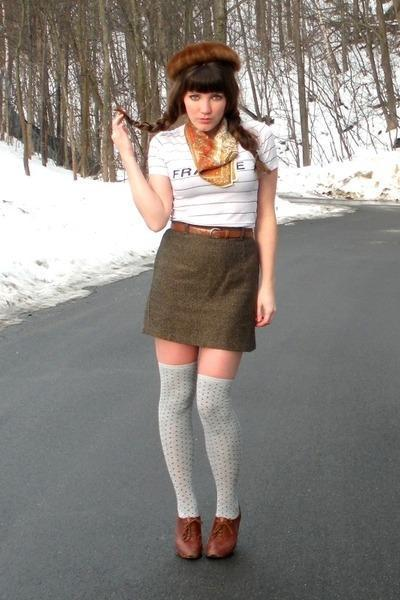hat: (167, 43, 239, 77)
shirt: (148, 124, 288, 227)
shoe: (173, 516, 240, 574)
skirt: (142, 233, 260, 354)
